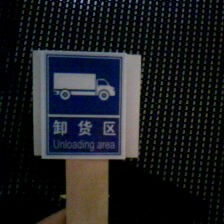unload: (32, 47, 132, 163)
